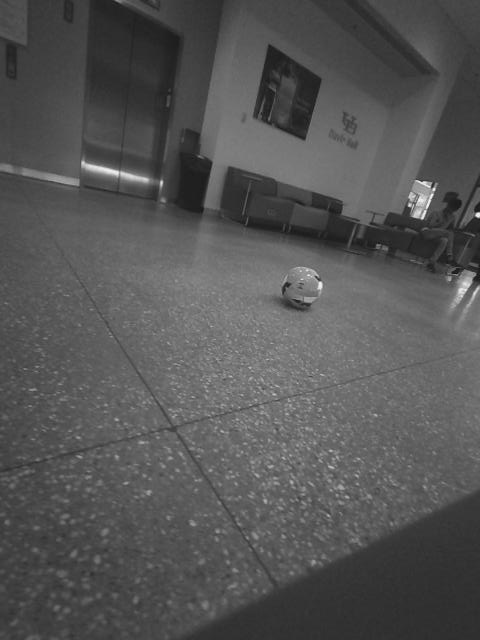ball: (274, 260, 332, 316)
